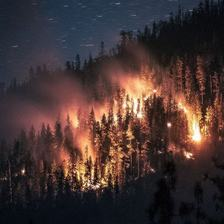fire: (44, 73, 203, 196)
